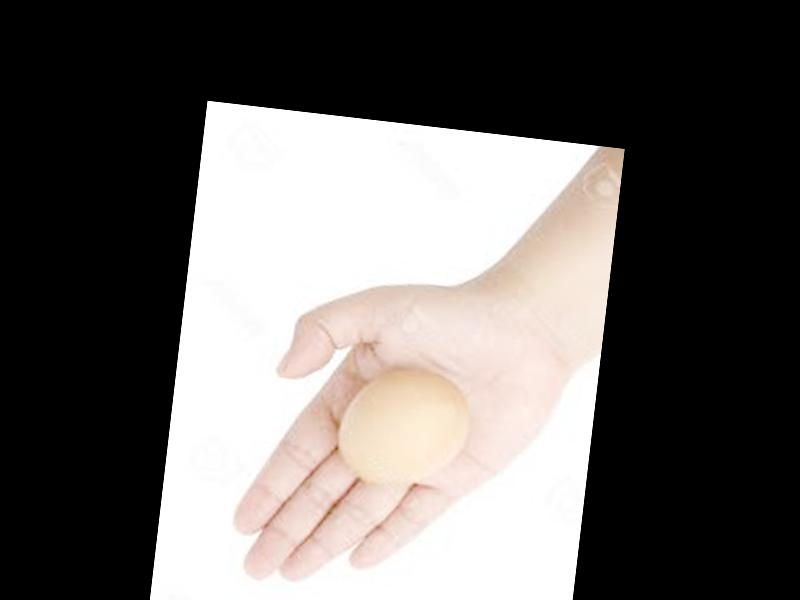Eggs: (335, 360, 474, 490)
